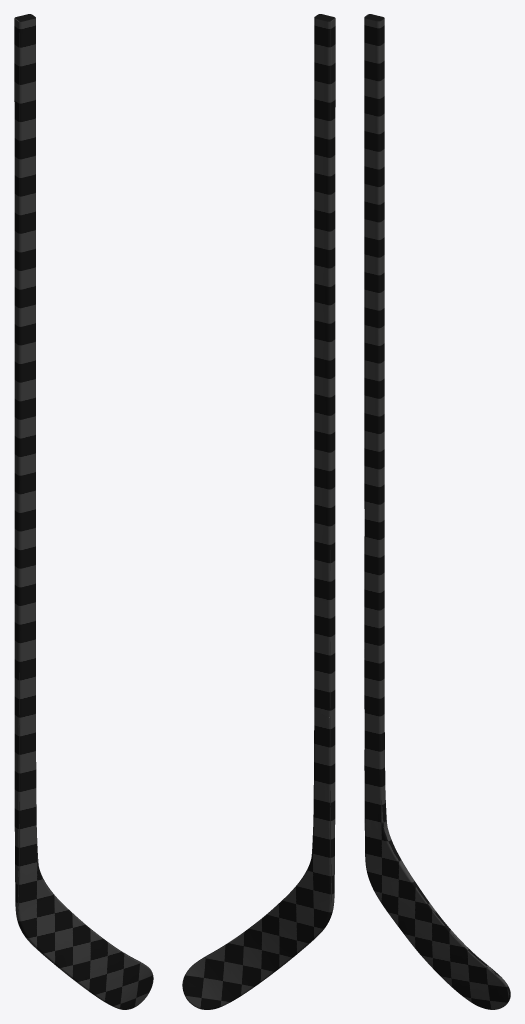
3 views of the same model, side by side, from view 1: azimuth 30°, elevation 25°; view 2: azimuth 150°, elevation 25°; view 3: azimuth 330°, elevation 25° (orthographic). The views are drawn at different scales.
Visible parts, largest first — view 1: geometry_0; view 2: geometry_0; view 3: geometry_0.
Boxes of the visible parts, x1=… form: geometry_0: x1=14, y1=14, x2=153, y2=1009; geometry_0: x1=182, y1=14, x2=335, y2=1009; geometry_0: x1=364, y1=14, x2=510, y2=1009.
Size of the model in its own units: 244 by 1650 by 38.38.
Materials: 1 (1 with a texture image).
